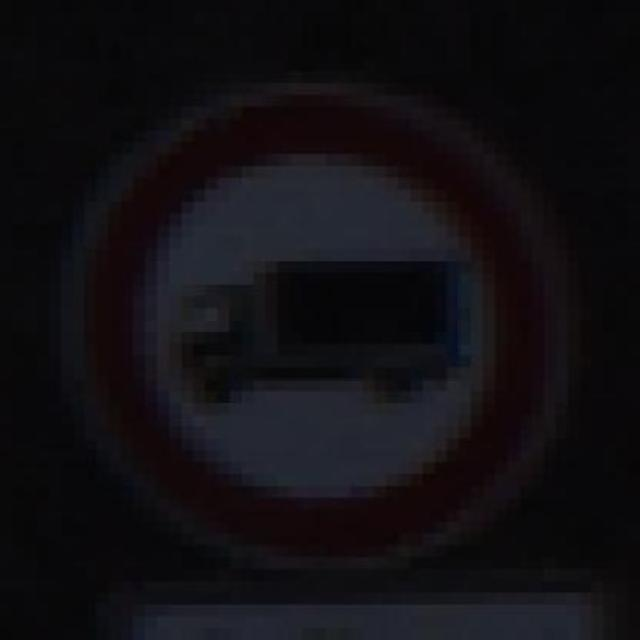Truck traffic is prohibited: (36, 59, 592, 593)
